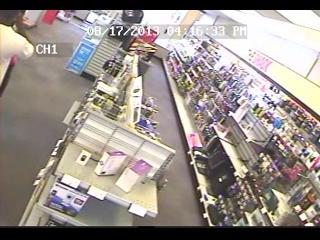Normal: (0, 11, 35, 96)
